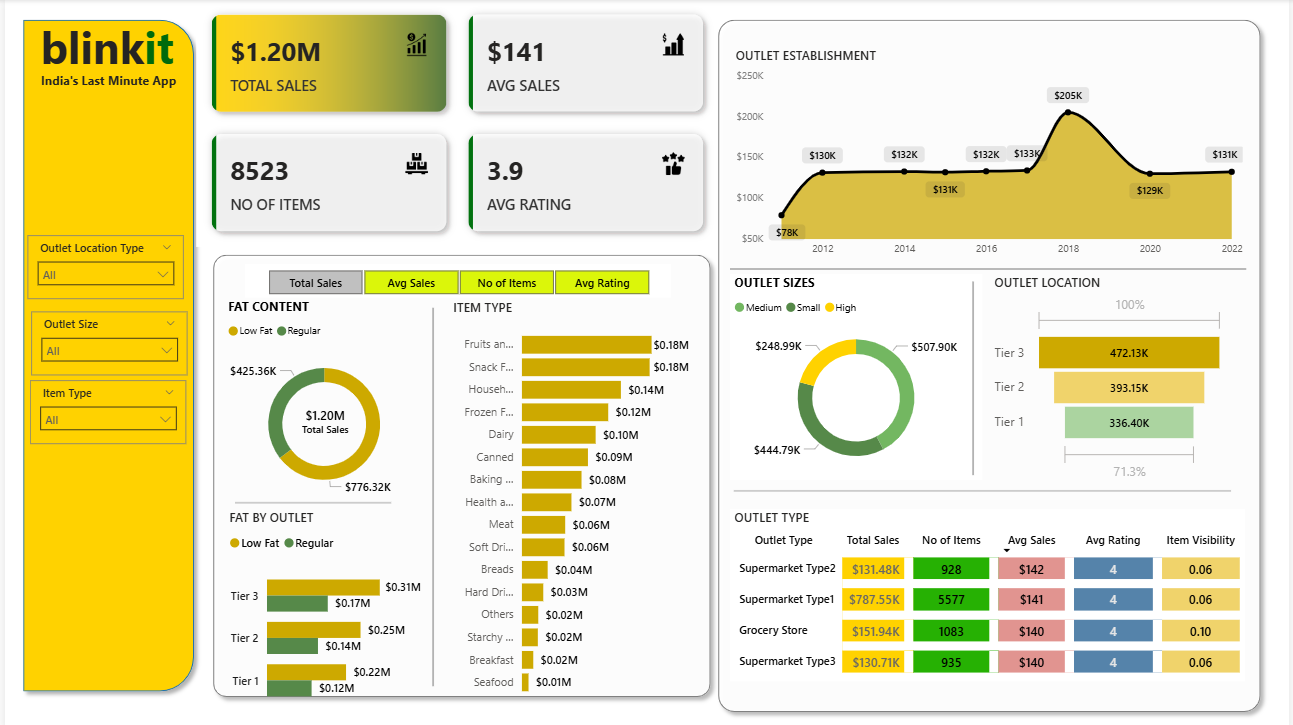

This screenshot's page, from the dashboard's own definition file:
{"tool":"powerbi","page":{"name":"Page 1","canvas":[1400,800],"ordinal":0},"visuals":[{"type":"shape","box":[10.5,13.5,204.1,750.4],"z":0},{"type":"textbox","box":[263,0,204,750],"z":1000},{"type":"textbox","box":[24,13.5,174.1,76.5],"z":2000},{"type":"textbox","box":[18,75,190.6,30],"z":3000},{"type":"cardVisual","fields":{"Data":["BlinkIT Grocery Data.Total Sales","BlinkIT Grocery Data.Avg Sales","BlinkIT Grocery Data.No of Items","BlinkIT Grocery Data.Avg Rating"]},"box":[208.6,0,570.3,270.2],"z":4000},{"type":"shape","box":[218.1,269.9,560.3,500.3],"z":5000},{"type":"donutChart","title":"FAT CONTENT","fields":{"Y":["BlinkIT Grocery Data.Total Sales"],"Category":["BlinkIT Grocery Data.Item Fat Content"]},"box":[238.6,325.8,219.5,230.4],"z":6000},{"type":"slicer","fields":{"Values":["Metrics 2.Metrics"]},"box":[261.8,289,464.9,36.8],"z":7000},{"type":"cardVisual","fields":{"Data":["BlinkIT Grocery Data.Total Sales"]},"box":[301.3,425.4,96.8,70.9],"z":8000},{"type":"clusteredBarChart","title":"FAT BY OUTLET","fields":{"Y":["BlinkIT Grocery Data.Total Sales"],"Category":["BlinkIT Grocery Data.Outlet Location Type"],"Series":["BlinkIT Grocery Data.Item Fat Content"]},"box":[240,556.2,218.8,230],"z":9000},{"type":"shape","box":[251.3,529.5,170.4,40.9],"z":10000},{"type":"shape","box":[449.9,336.7,34.1,413.1],"z":11000},{"type":"barChart","title":"ITEM TYPE","fields":{"Y":["BlinkIT Grocery Data.Total Sales"],"Category":["BlinkIT Grocery Data.Item Type"]},"box":[484,327.2,267.2,443.1],"z":12000},{"type":"shape","box":[768.9,13.6,609.4,773],"z":13000},{"type":"lineChart","title":"OUTLET ESTABLISHMENT","fields":{"Y":["BlinkIT Grocery Data.Total Sales"],"Category":["BlinkIT Grocery Data.Outlet Establishment Year"]},"box":[792.1,51.8,563.1,237.2],"z":14000},{"type":"shape","box":[790.7,289,563.1,10.9],"z":15000},{"type":"donutChart","title":"OUTLET SIZES","fields":{"Y":["BlinkIT Grocery Data.Total Sales"],"Category":["BlinkIT Grocery Data.Outlet Size"]},"box":[790.7,299.9,275.4,225],"z":16000},{"type":"shape","box":[1047,308.1,17.7,211.3],"z":17000},{"type":"funnel","title":"OUTLET LOCATION","fields":{"Y":["Sum(BlinkIT Grocery Data.Sales)"],"Category":["BlinkIT Grocery Data.Outlet Location Type"]},"box":[1074.3,299.9,260.4,230.4],"z":18000},{"type":"shape","box":[794.8,516.7,542.6,39.5],"z":19000},{"type":"pivotTable","title":"OUTLET TYPE","fields":{"Rows":["BlinkIT Grocery Data.Outlet Type"],"Values":["BlinkIT Grocery Data.Total Sales","BlinkIT Grocery Data.No of Items","BlinkIT Grocery Data.Avg Sales","BlinkIT Grocery Data.Avg Rating","Avg(BlinkIT Grocery Data.Item Visibility)"]},"box":[790.7,556.2,561.7,188.1],"z":20000},{"type":"slicer","fields":{"Values":["BlinkIT Grocery Data.Outlet Location Type"]},"box":[24.5,257.7,170.4,69.5],"z":20001},{"type":"slicer","fields":{"Values":["BlinkIT Grocery Data.Outlet Size"]},"box":[28.6,340.8,170.4,69.5],"z":20002},{"type":"slicer","fields":{"Values":["BlinkIT Grocery Data.Item Type"]},"box":[27.3,415.8,170.4,69.5],"z":20003}]}

Visuals, with their boxes in screenshot pixels (x1, y1, x2, y2), scaled from the page's 1400x800 canvas onto the 1293x725 screenshot:
shape: bbox(10, 12, 198, 692)
textbox: bbox(243, 0, 431, 680)
textbox: bbox(22, 12, 183, 82)
textbox: bbox(17, 68, 193, 95)
cardVisual - BlinkIT Grocery Data.Total Sales x BlinkIT Grocery Data.Avg Sales: bbox(193, 0, 719, 245)
shape: bbox(201, 245, 719, 698)
"FAT CONTENT" donutChart: bbox(220, 295, 423, 504)
slicer - Metrics 2.Metrics: bbox(242, 262, 671, 295)
cardVisual - BlinkIT Grocery Data.Total Sales: bbox(278, 386, 368, 450)
"FAT BY OUTLET" clusteredBarChart: bbox(222, 504, 424, 712)
shape: bbox(232, 480, 389, 517)
shape: bbox(416, 305, 447, 680)
"ITEM TYPE" barChart: bbox(447, 297, 694, 698)
shape: bbox(710, 12, 1273, 713)
"OUTLET ESTABLISHMENT" lineChart: bbox(732, 47, 1252, 262)
shape: bbox(730, 262, 1250, 272)
"OUTLET SIZES" donutChart: bbox(730, 272, 985, 476)
shape: bbox(967, 279, 983, 471)
"OUTLET LOCATION" funnel: bbox(992, 272, 1233, 481)
shape: bbox(734, 468, 1235, 504)
"OUTLET TYPE" pivotTable: bbox(730, 504, 1249, 675)
slicer - BlinkIT Grocery Data.Outlet Location Type: bbox(23, 234, 180, 297)
slicer - BlinkIT Grocery Data.Outlet Size: bbox(26, 309, 184, 372)
slicer - BlinkIT Grocery Data.Item Type: bbox(25, 377, 183, 440)
